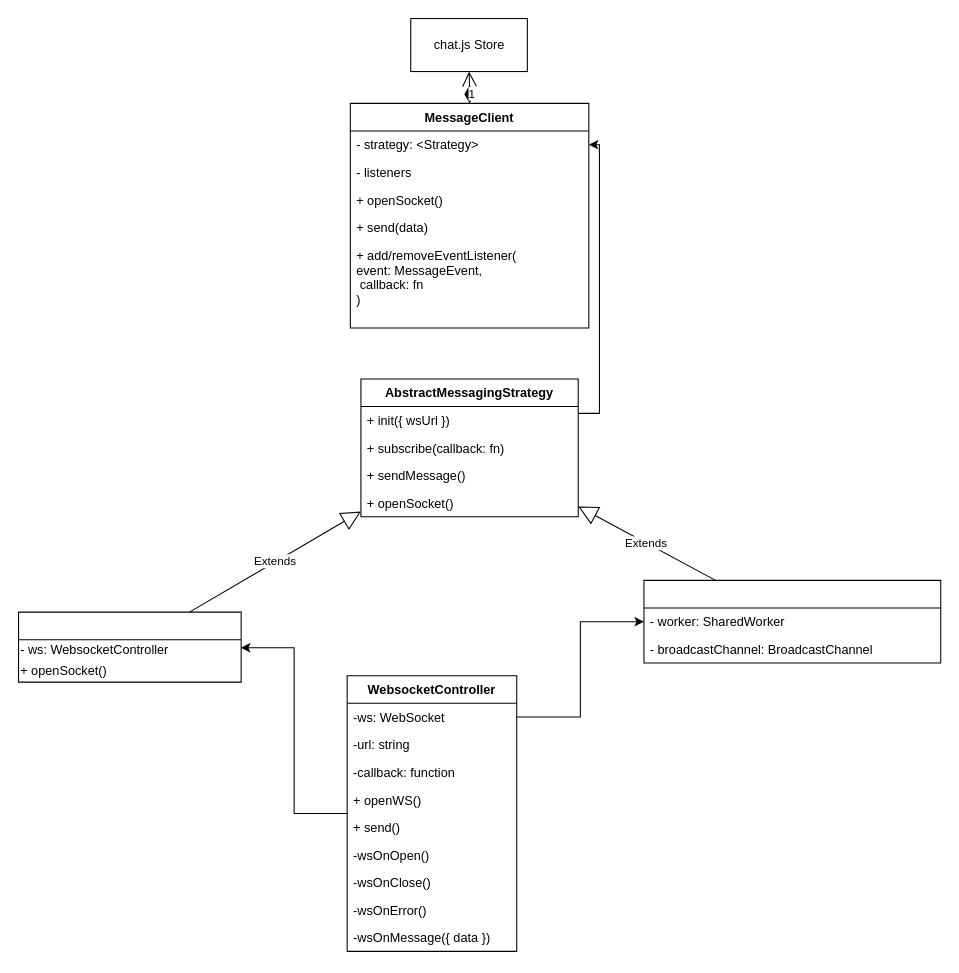
Some shapes in this 959 by 973 pixel diagram are drawn without their labels. The shapes that lost their labels are listed below. From the top down, each one's box as (x1, y1, x2, y2) in pixels, then its label:
(643, 579, 941, 663): WorkerMessagingStrategy
(17, 611, 241, 682): MainThreadMessagingStrategy
